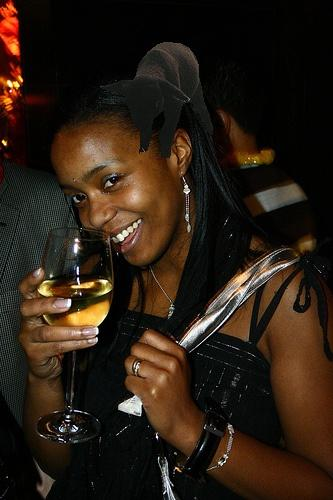tampered: (101, 43, 213, 158)
